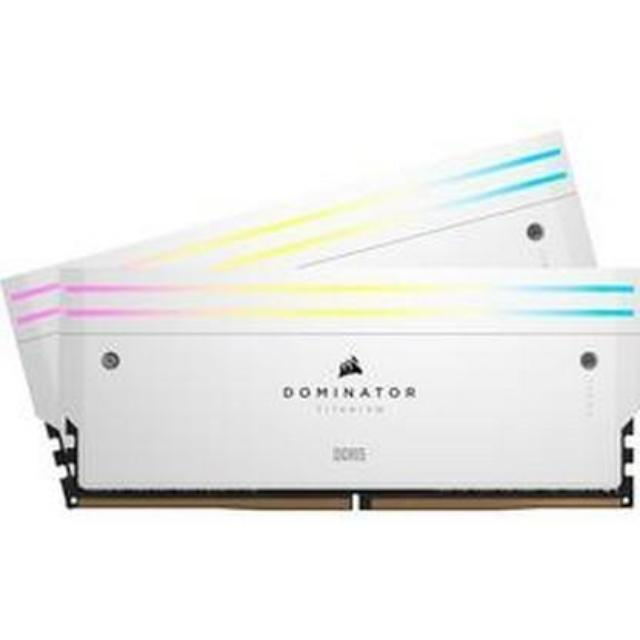RAM: (0, 122, 640, 524)
